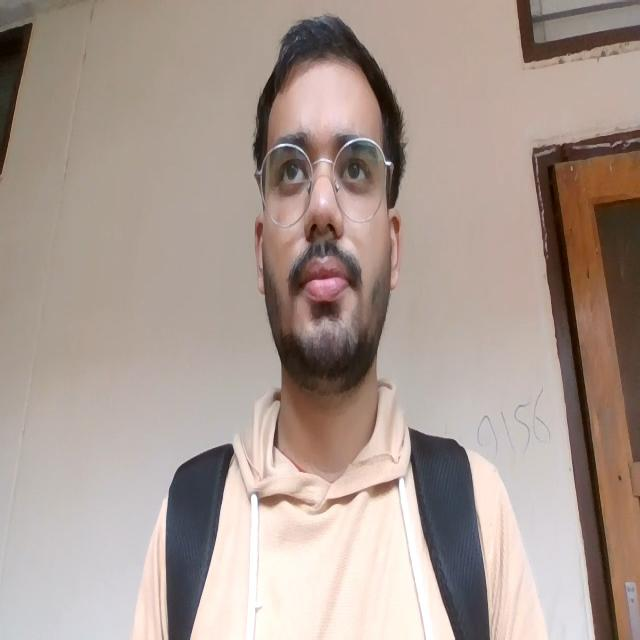awake: (264, 132, 382, 318)
